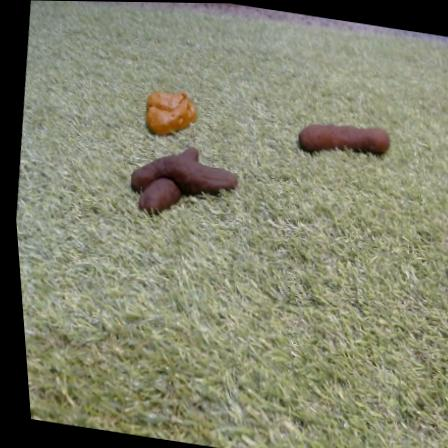dog-poop: (108, 132, 254, 229), (288, 105, 397, 165), (125, 74, 199, 144)
